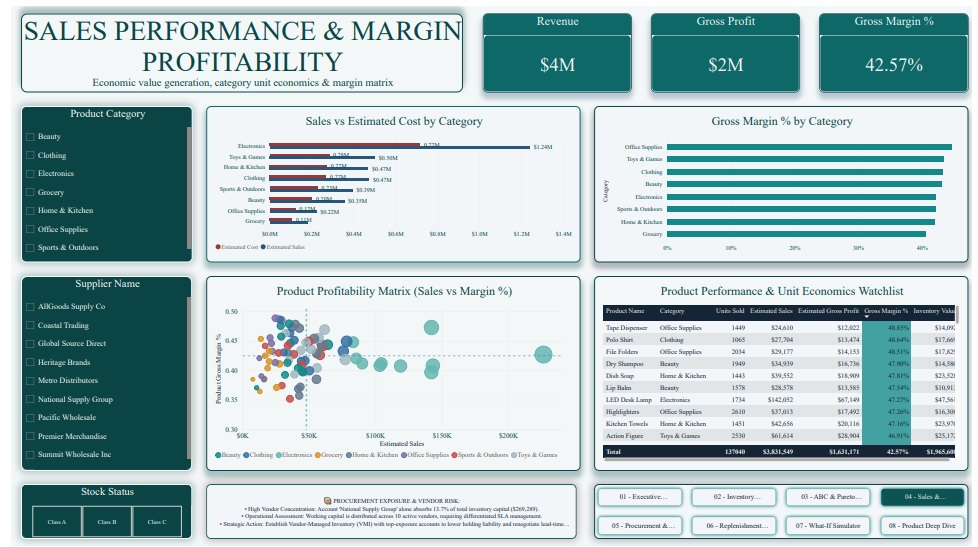

Layout of this report page (visuals, bound fields, positions):
{"tool":"powerbi","page":{"name":"04 - Sales & Profitability","canvas":[1920,1080],"ordinal":3},"visuals":[{"type":"cardVisual","title":"Revenue","fields":{"Data":["_Measure.Estimated Sales"]},"box":[942.5,15,297.5,157.5],"z":0},{"type":"cardVisual","title":"Gross Margin %","fields":{"Data":["_Measure.Estimated Gross Margin %"]},"box":[1615,15,297.5,157.5],"z":1000},{"type":"textbox","title":"SALES PERFORMANCE & MARGIN PROFITABILITY","box":[20,15,882.5,157.5],"z":2000},{"type":"slicer","title":"Product Category","fields":{"Values":["DimCategory.Category"]},"box":[20,200,342.5,312.5],"z":3000},{"type":"slicer","title":"Supplier Name","fields":{"Values":["DimSupplier.Supplier Name"]},"box":[20,540,342.2,390],"z":4000},{"type":"slicer","title":"Stock Status","fields":{"Values":["DimProduct.ABC-Class"]},"box":[20,955.6,342.2,110],"z":5000},{"type":"cardVisual","fields":{"Data":["_Measure.Procurement Insight Text II"]},"box":[390,956,740,110],"z":6000},{"type":"clusteredBarChart","title":"Sales vs Estimated Cost by Category","fields":{"Category":["FactInventory.Category"],"Y":["_Measure.Estimated Cost","_Measure.Estimated Sales"]},"box":[390,200,747.5,312.5],"z":7000},{"type":"cardVisual","title":"Gross Profit","fields":{"Data":["_Measure.Estimated Gross Profit"]},"box":[1278.8,15,297.5,157.5],"z":8000},{"type":"clusteredBarChart","title":"Gross Margin % by Category","fields":{"Category":["DimCategory.Category"],"Y":["_Measure.Estimated Gross Margin %"]},"box":[1165,200,747.5,312.5],"z":9000},{"type":"scatterChart","title":"Product Profitability Matrix (Sales vs Margin %)","fields":{"Category":["DimProduct.Product Name"],"Series":["DimCategory.Category"],"Size":["_Measure.Estimated Gross Profit"],"X":["_Measure.Estimated Sales"],"Y":["_Measure.Product Gross Margin %"]},"box":[390,540,748,390],"z":10000},{"type":"tableEx","title":"Product Performance & Unit Economics Watchlist","fields":{"Values":["DimProduct.Product Name","DimCategory.Category","_Measure.Units Sold","_Measure.Estimated Sales","_Measure.Estimated Gross Profit","_Measure.Estimated Gross Margin %","_Measure.Inventory Value"]},"box":[1165,540,748,390],"z":11000},{"type":"pageNavigator","box":[1165,956,748,110],"z":12000}]}

Visuals, with their boxes in screenshot pixels (x1, y1, x2, y2), scaled from the page's 1920x1080 canvas onto the 978x547 screenshot:
"Revenue" cardVisual: (480, 8, 632, 87)
"Gross Margin %" cardVisual: (823, 8, 974, 87)
"SALES PERFORMANCE & MARGIN PROFITABILITY" textbox: (10, 8, 460, 87)
"Product Category" slicer: (10, 101, 185, 260)
"Supplier Name" slicer: (10, 274, 184, 471)
"Stock Status" slicer: (10, 484, 184, 540)
cardVisual - _Measure.Procurement Insight Text II: (199, 484, 576, 540)
"Sales vs Estimated Cost by Category" clusteredBarChart: (199, 101, 579, 260)
"Gross Profit" cardVisual: (651, 8, 803, 87)
"Gross Margin % by Category" clusteredBarChart: (593, 101, 974, 260)
"Product Profitability Matrix (Sales vs Margin %)" scatterChart: (199, 274, 580, 471)
"Product Performance & Unit Economics Watchlist" tableEx: (593, 274, 974, 471)
pageNavigator: (593, 484, 974, 540)
